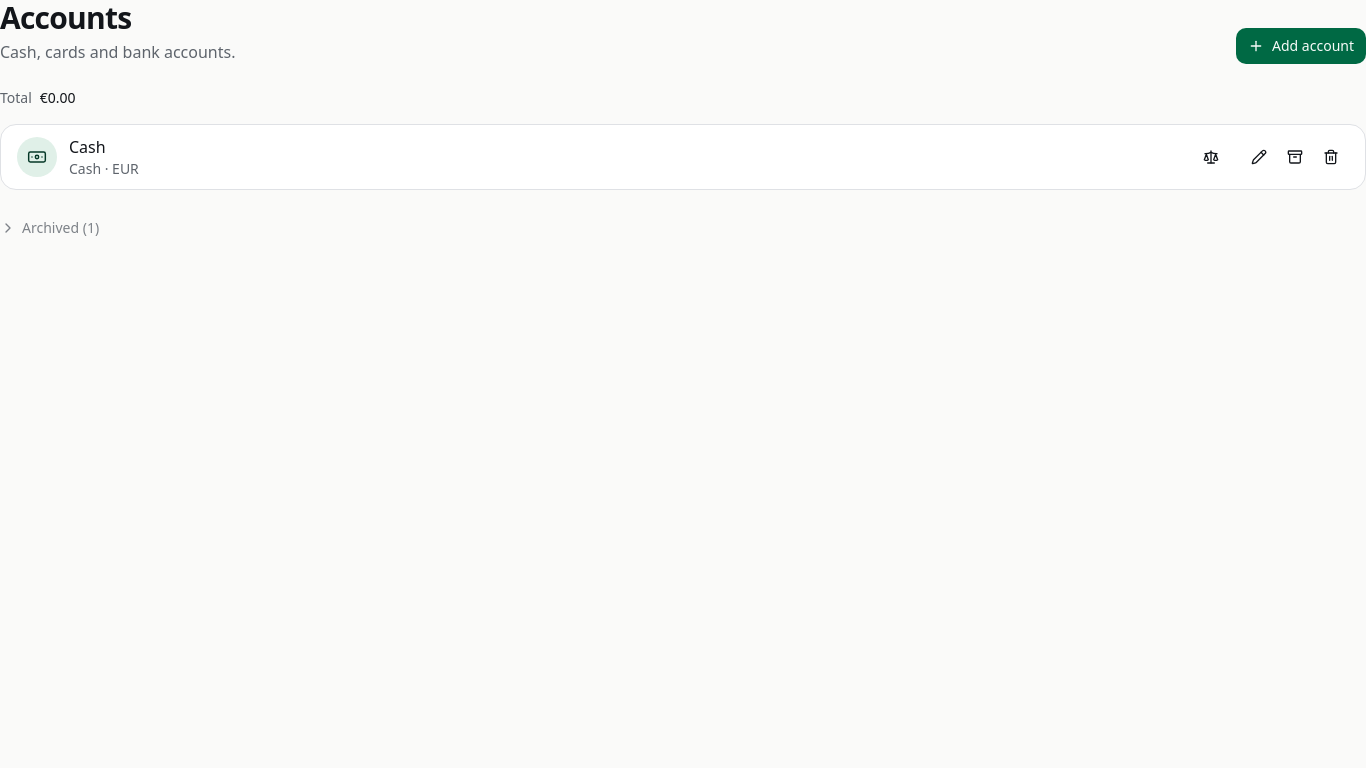
Test case: AccountsPage › offers the family choice only with a family workspace
Step 1. Click the button "Add account" → (1301, 46), box 1236,28 -> 1365,64
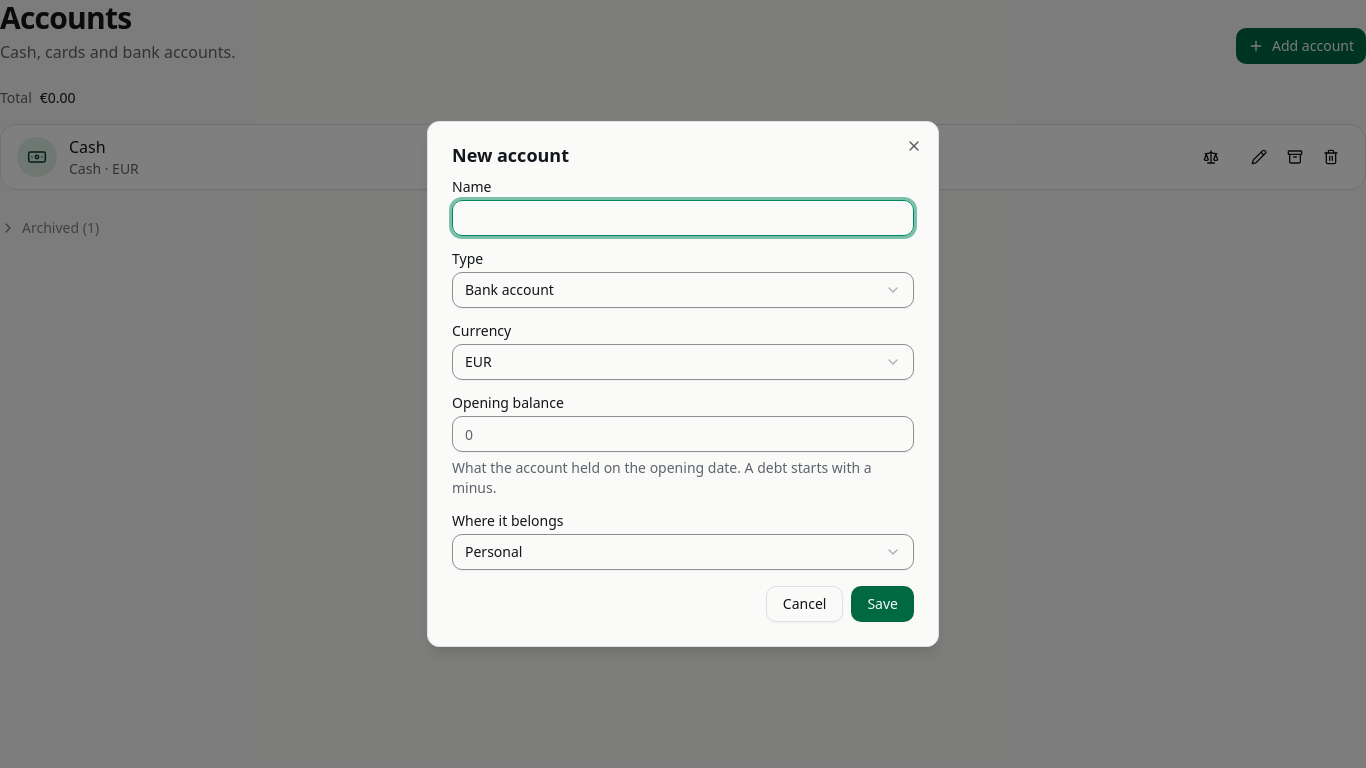
expect the dropdown named "Where it belongs" is shown: met, box 452,534 -> 914,570
